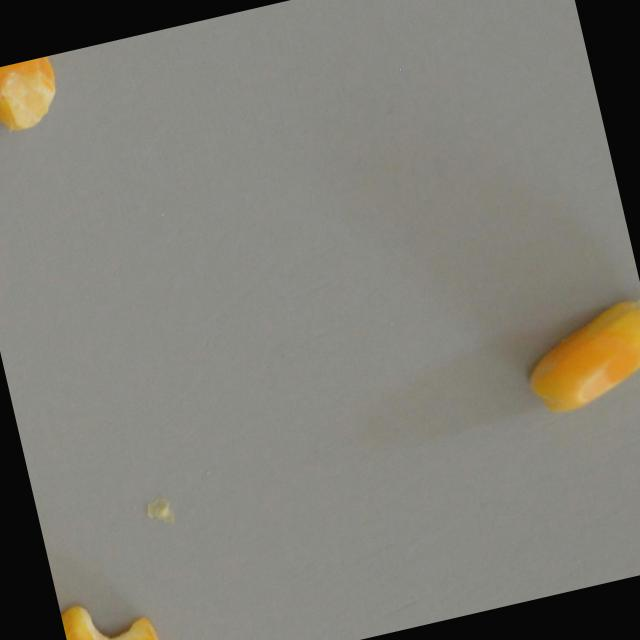entero: (506, 282, 640, 423)
no_canjicado: (58, 586, 162, 640)
no_desgerminado: (0, 54, 66, 142)
